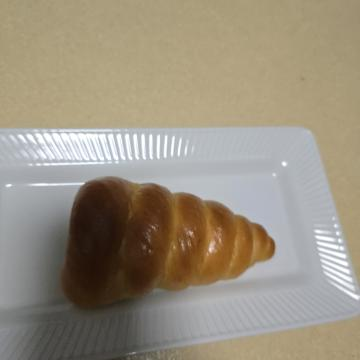cream horn: (160, 68, 320, 314)
